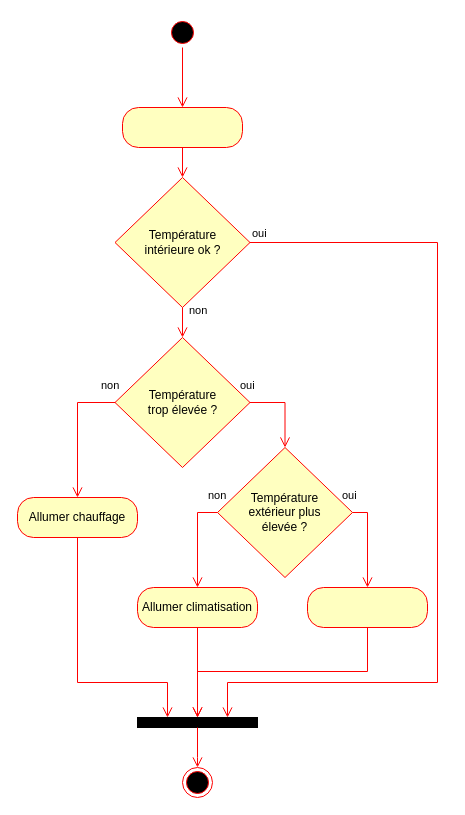
This 465x815 diagram has some shape labels left out. The box of each missing label's shape, as (x1, y1, x2, y2) in pixels:
Ouvrir fenêtres de toît: (306, 586, 428, 628)
Saisir température souhaitée + intérieure / extérieur: (122, 106, 242, 148)
